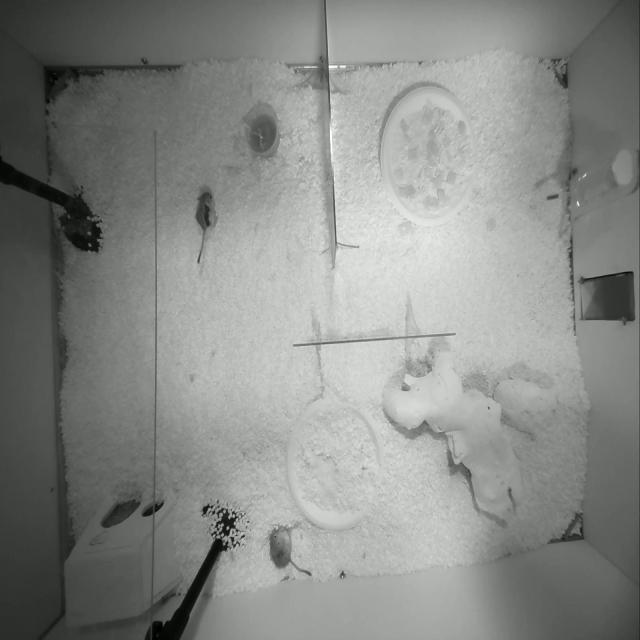pup_fluffy: (270, 527, 311, 575)
pup_v_stripe: (196, 193, 216, 263)
